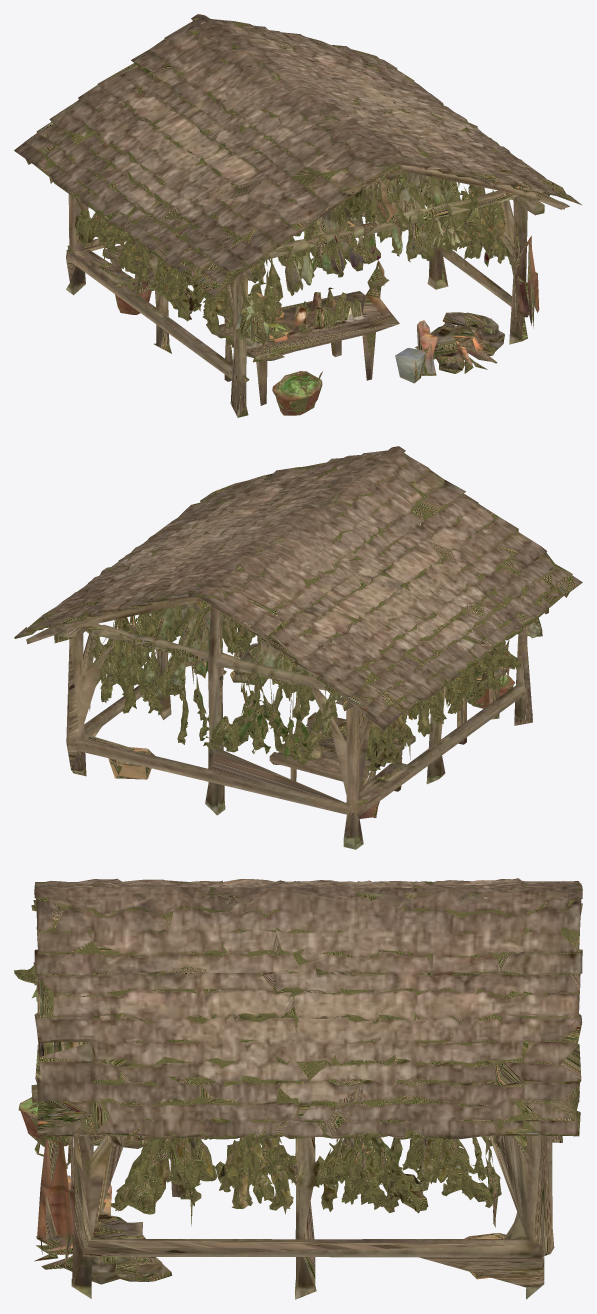
File: bq_incense.glb
The picture shows the model from 3 angles, top to bottom: view 1: azimuth 30°, elevation 25°; view 2: azimuth 150°, elevation 25°; view 3: azimuth 270°, elevation 25°; orthographic projection. The views are drawn at different scales.
Parts seen in each view (by area): view 1: mesh_node; view 2: mesh_node; view 3: mesh_node.
Boxes of the visible parts, left/top/right/bottom form: mesh_node: left=14, top=14, right=581, bottom=417; mesh_node: left=14, top=446, right=582, bottom=849; mesh_node: left=14, top=878, right=582, bottom=1299.
Size of the model in its own units: 1.9 by 1.12 by 1.83.
1 material, 1 textured.
